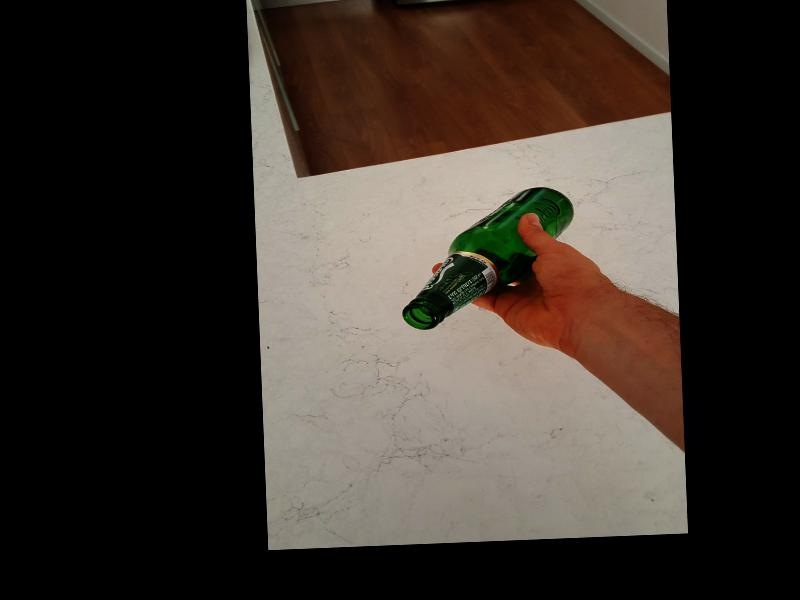Beer: (396, 186, 576, 332)
